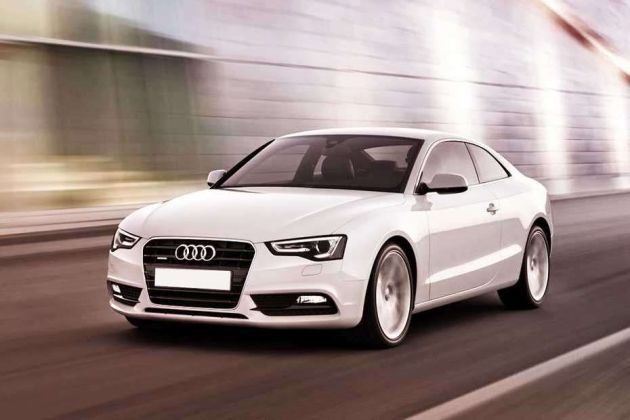audi: (95, 117, 567, 349)
